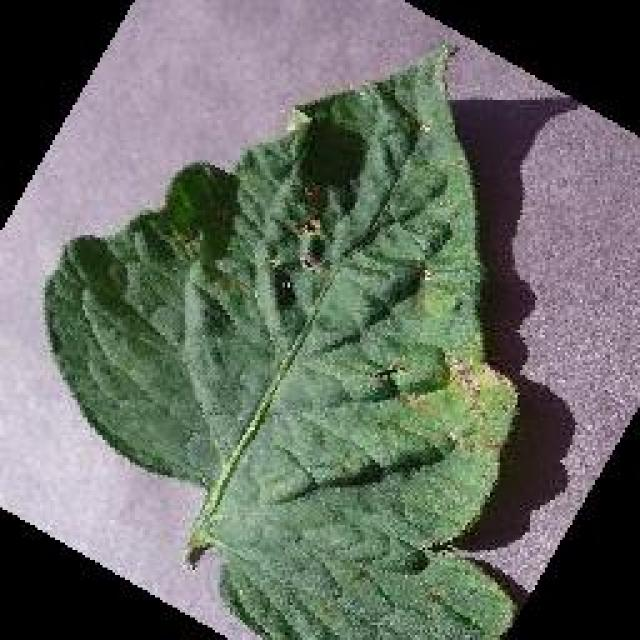Tomato___Target_Spot: (45, 45, 515, 638)
